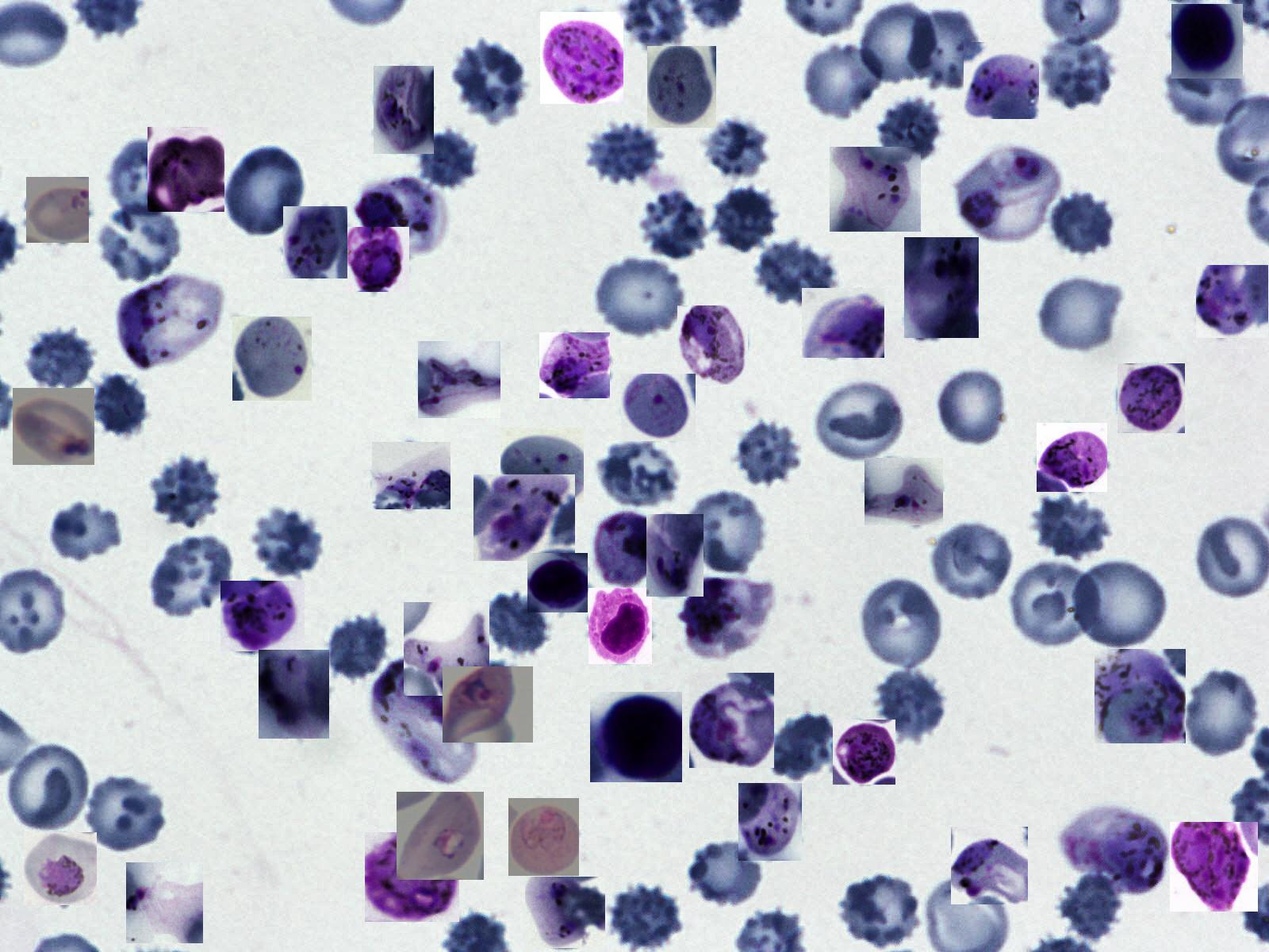Infected: (372, 658, 477, 783), (957, 143, 1064, 247), (118, 271, 226, 373), (1063, 806, 1164, 896), (473, 474, 575, 561), (1095, 649, 1186, 743), (365, 832, 459, 922), (356, 175, 451, 263), (591, 692, 683, 782), (679, 574, 776, 658), (689, 674, 774, 769), (404, 602, 489, 696), (1170, 822, 1258, 912), (830, 147, 921, 232), (397, 792, 484, 880), (540, 12, 623, 104), (904, 237, 979, 338), (443, 666, 533, 743), (232, 317, 312, 401), (148, 127, 224, 212), (418, 341, 500, 418), (500, 428, 584, 503), (126, 862, 203, 943), (13, 388, 94, 465), (259, 650, 329, 739), (220, 581, 305, 651), (951, 827, 1028, 904), (592, 512, 665, 593), (964, 42, 1039, 119), (802, 288, 884, 358), (678, 305, 749, 385), (525, 877, 605, 948), (647, 46, 716, 128), (508, 798, 579, 876), (1171, 4, 1243, 79), (24, 832, 97, 905), (374, 66, 434, 154), (1196, 265, 1268, 338), (372, 442, 450, 509), (865, 458, 943, 525), (621, 374, 696, 441), (738, 783, 802, 861), (588, 588, 652, 664), (1037, 423, 1107, 492), (646, 515, 704, 597), (1118, 363, 1185, 433), (539, 332, 610, 398), (283, 206, 347, 278), (345, 227, 409, 292), (26, 177, 89, 243), (833, 720, 895, 785), (527, 553, 588, 612)
Uninfected: (1070, 555, 1171, 652), (859, 574, 946, 673), (592, 252, 689, 340), (1011, 557, 1101, 651), (4, 738, 92, 832), (147, 532, 238, 620), (683, 483, 769, 576), (224, 144, 309, 237), (811, 378, 900, 465), (1182, 666, 1263, 761), (927, 519, 1016, 605), (1037, 271, 1126, 354), (82, 771, 171, 854), (595, 436, 687, 513), (105, 134, 187, 219), (837, 870, 926, 946), (99, 203, 182, 284), (450, 40, 529, 122), (1036, 31, 1117, 109), (803, 43, 885, 120), (935, 367, 1010, 449), (248, 500, 327, 576), (861, 4, 937, 83), (746, 240, 842, 302), (634, 184, 713, 259), (1166, 55, 1249, 125), (405, 121, 481, 196), (21, 324, 98, 397), (688, 839, 768, 908), (909, 10, 977, 90), (583, 121, 665, 186), (610, 880, 682, 952), (327, 608, 392, 685), (1032, 493, 1109, 558), (477, 590, 550, 658), (876, 670, 945, 739), (150, 455, 217, 524), (90, 370, 155, 441), (713, 186, 778, 255), (1054, 873, 1122, 937), (734, 420, 803, 483), (879, 97, 941, 167), (49, 501, 120, 562), (774, 709, 836, 778), (1049, 191, 1114, 255), (701, 118, 769, 179)
